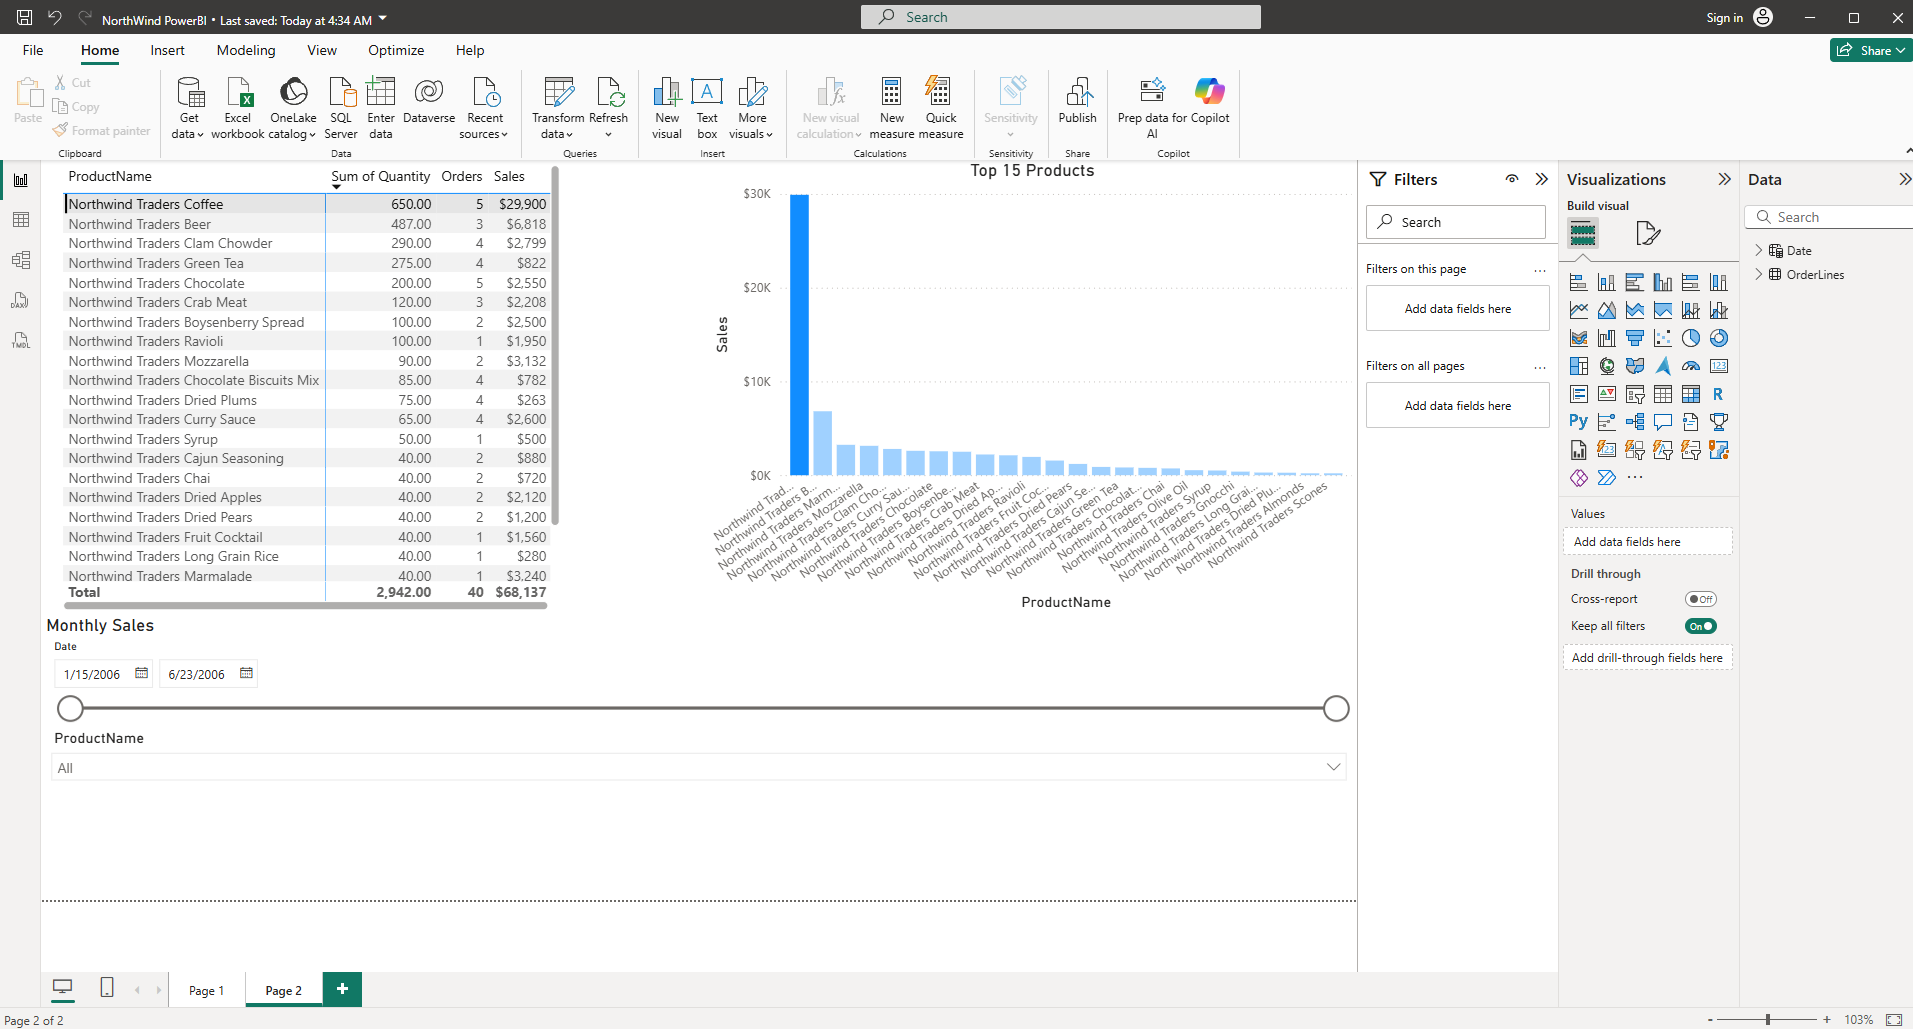

The dashboard page shown, as its layout file describes it:
{"tool":"powerbi","page":{"name":"Page 2","canvas":[1280,720],"ordinal":1},"visuals":[{"type":"pivotTable","fields":{"Rows":["OrderLines.ProductName"],"Values":["Sum(OrderLines.Quantity)","Date.Orders","Date.Sales"]},"box":[16.5,0,493.1,442.6],"z":0},{"type":"columnChart","title":"Top 15 Products","fields":{"Category":["OrderLines.ProductName"],"Y":["Date.Sales"]},"box":[648.8,0,631.2,442.6],"z":1000},{"type":"slicer","title":"Monthly Sales","fields":{"Values":["Date.Date"]},"box":[0,442.6,1281,107],"z":2000},{"type":"slicer","fields":{"Values":["OrderLines.ProductName"]},"box":[0,548.6,1280,106],"z":3000}]}

Visuals, with their boxes on the page's 1280x720 design canvas (x1, y1, x2, y2). These are canvas units, not pixel positions in the 1913x1029 screenshot, which may show the page scaled, cropped or inside an application window:
pivotTable - OrderLines.ProductName x Sum(OrderLines.Quantity): x1=16, y1=0, x2=510, y2=443
"Top 15 Products" columnChart: x1=649, y1=0, x2=1280, y2=443
"Monthly Sales" slicer: x1=0, y1=443, x2=1281, y2=550
slicer - OrderLines.ProductName: x1=0, y1=549, x2=1280, y2=655
